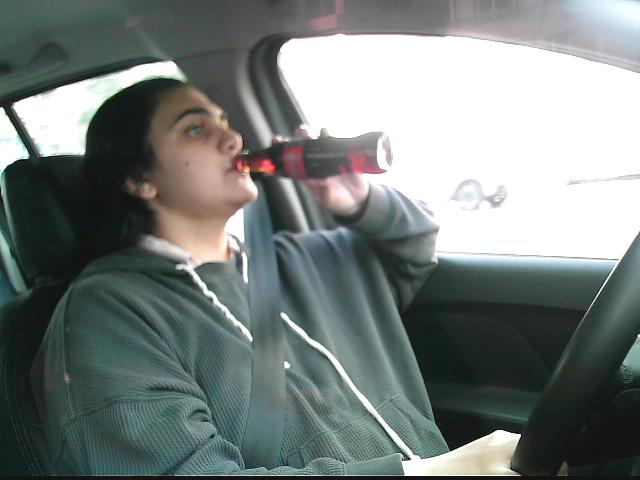Drinking: (232, 133, 393, 176)
